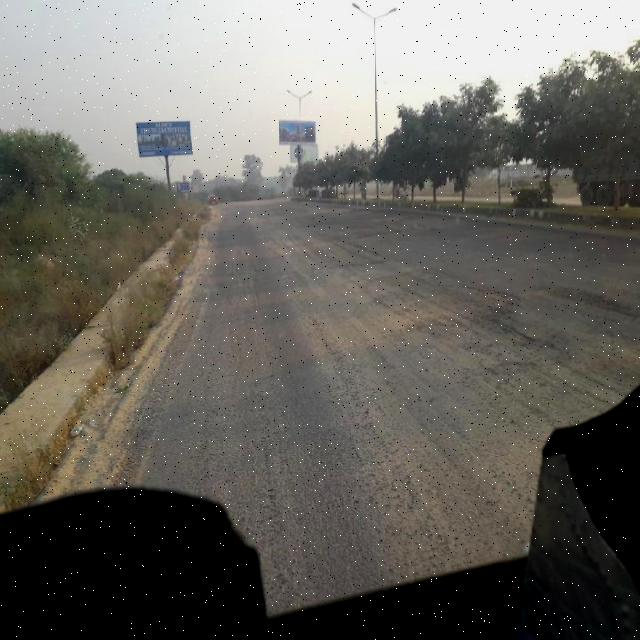D40: (503, 319, 572, 349), (451, 276, 519, 306)
